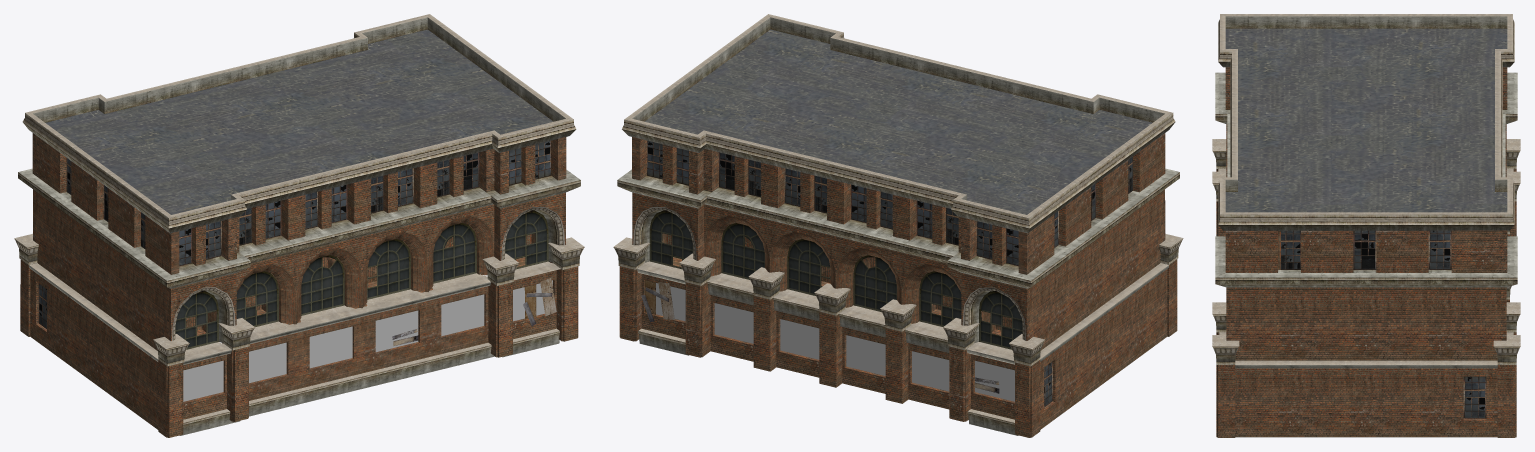
Rendered from Build4_el4_LOD1.fbx.
3 renders of one model, left to right at view 1: azimuth 30°, elevation 25°; view 2: azimuth 150°, elevation 25°; view 3: azimuth 270°, elevation 25°, orthographic.
Parts seen in each view (by area): view 1: polySurface72; view 2: polySurface72; view 3: polySurface72.
Boxes of the visible parts, x1=… form: polySurface72: x1=14, y1=14, x2=584, y2=437; polySurface72: x1=613, y1=14, x2=1183, y2=437; polySurface72: x1=1212, y1=14, x2=1520, y2=437.
Size of the model in its own units: 46.43 by 23.63 by 29.09.
